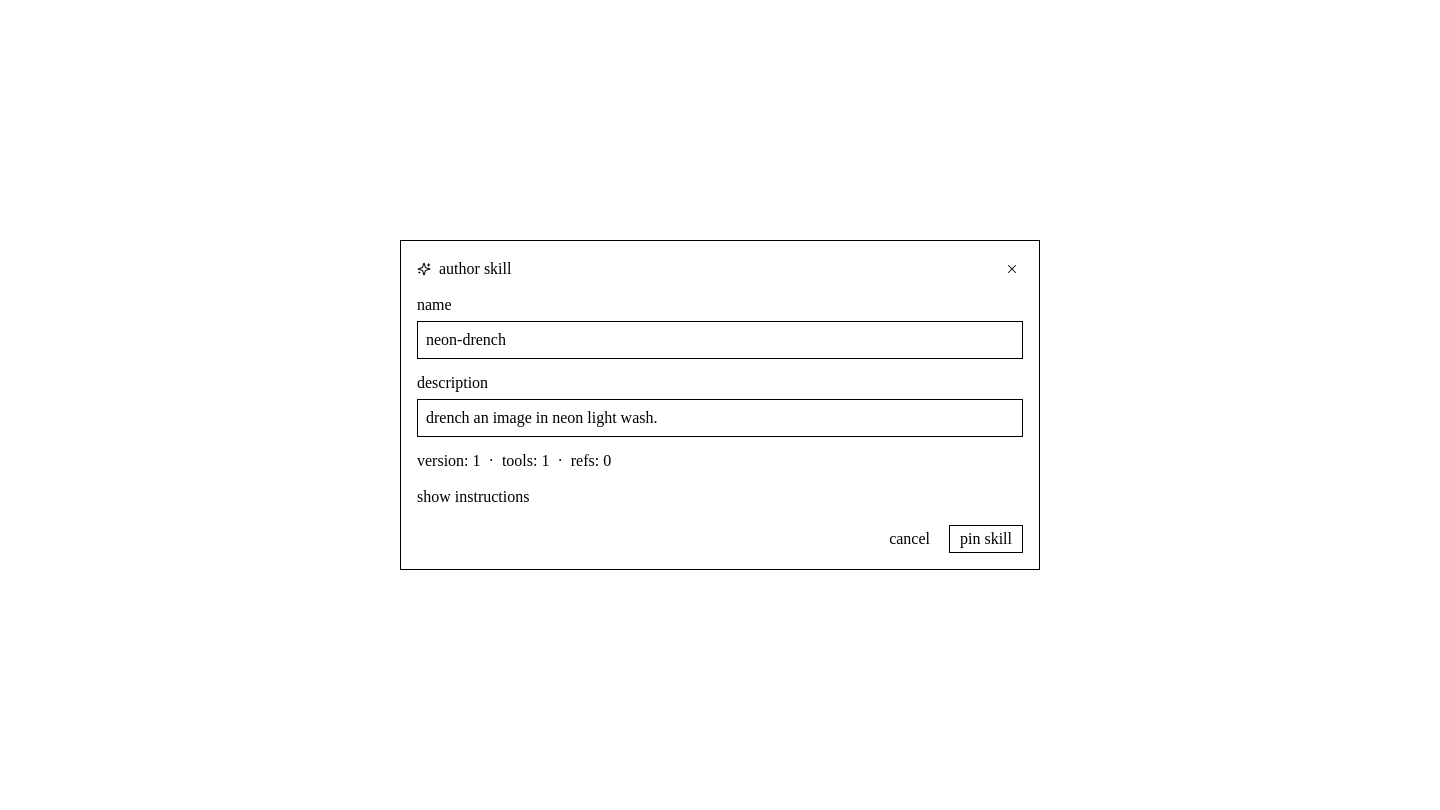
SkillAcceptDialog › toggles the instructions body on demand
The width and height of the screenshot is (1440, 810).
Expected: the field with test id "skill-accept-name" holds "neon-drench", [417,321,1023,359]
Click the button with test id "skill-accept-toggle-instructions": x=473, y=497 [417,485,530,509]
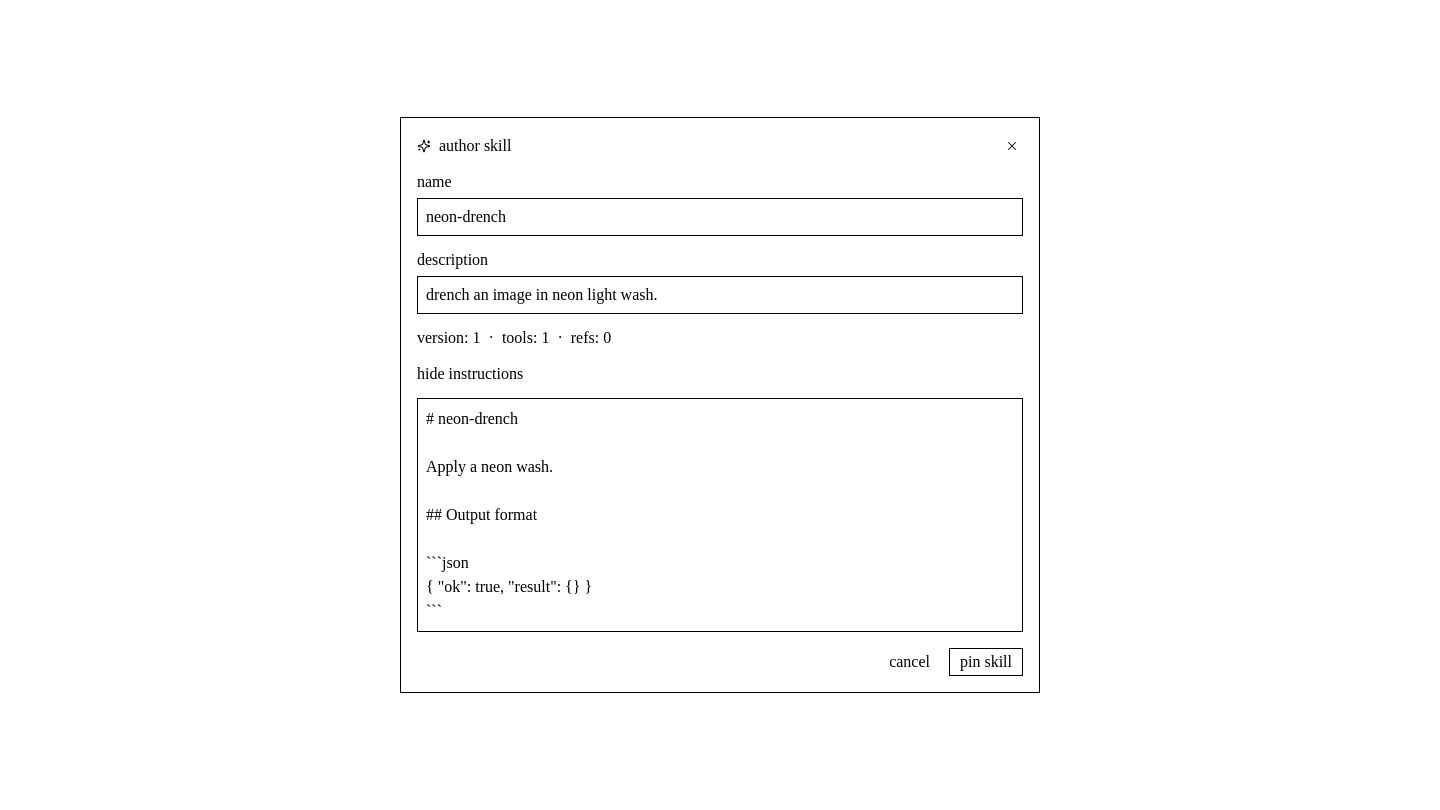
Now the text with test id "skill-accept-instructions" shows "Output format", box [426,410,592,619]
